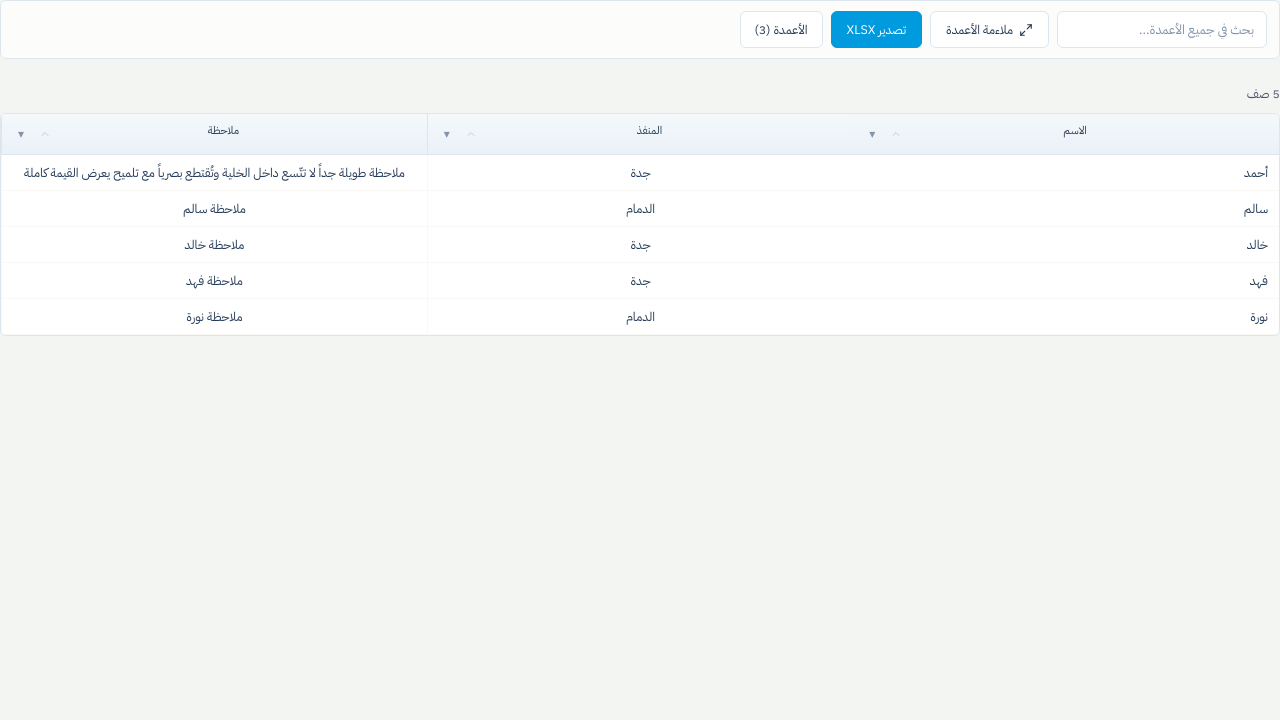
Test: DataTable — RTL render + interactions (characterization) › per-column multiselect filter narrows to the checked value
This screenshot has width=1280, height=720.
Open the port column's filter menu, then check "جدة".
Click the button titled "تصفية: المنفذ" in the row of "المنفذ".
click(447, 134)  # box [437,124,457,144]
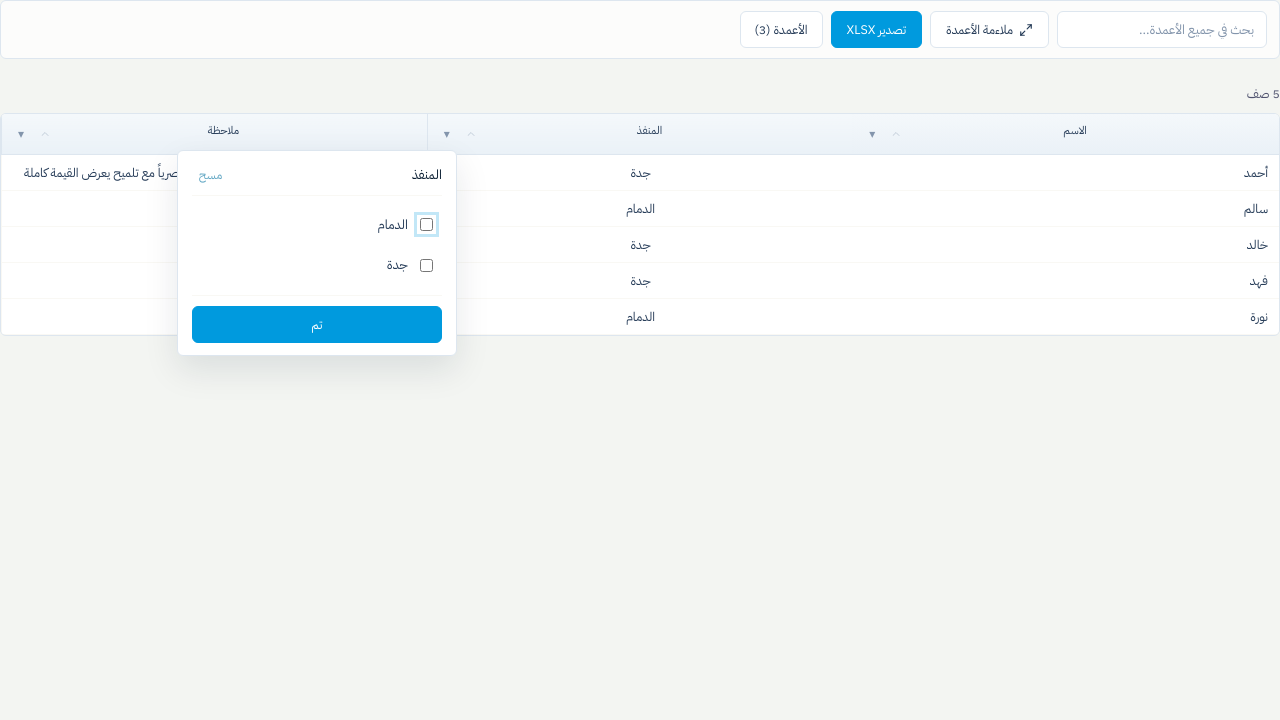
Click the checkbox labelled "جدة".
click(426, 266)  # box [420,259,433,272]
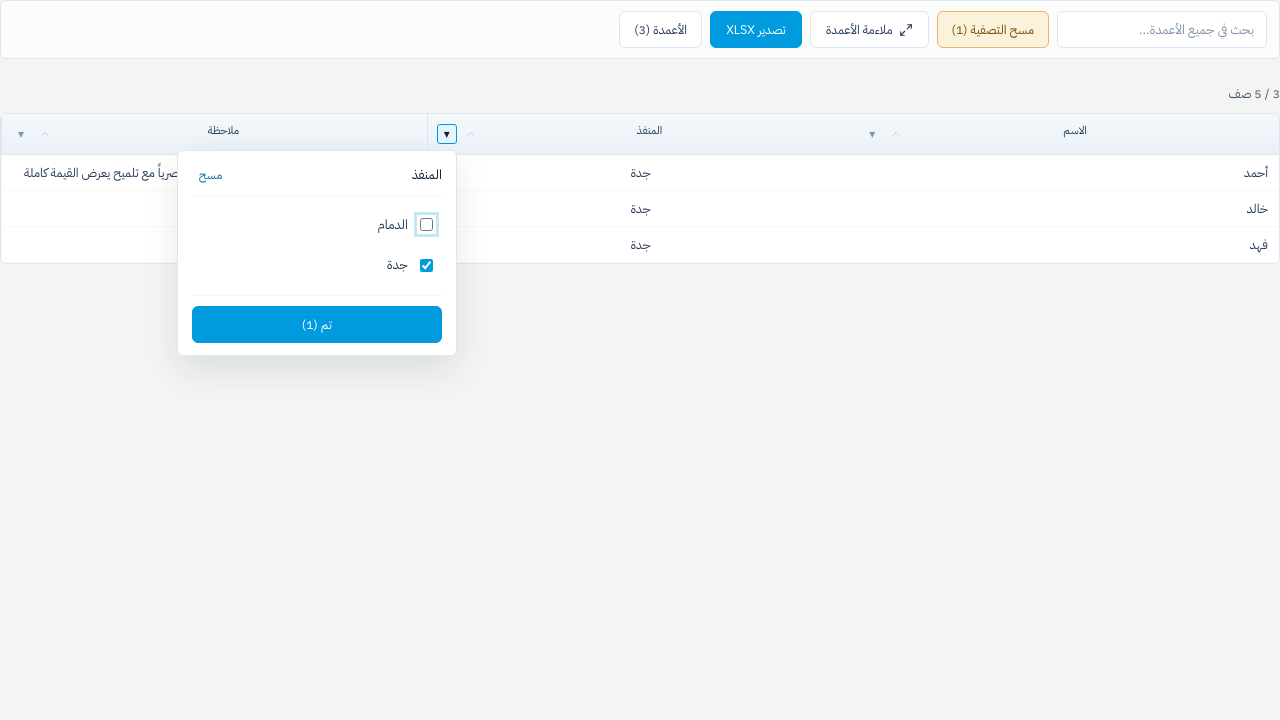
Expected: the text "أحمد" is shown, [1244,163,1268,182]
Expected: the text "سالم" is gone
